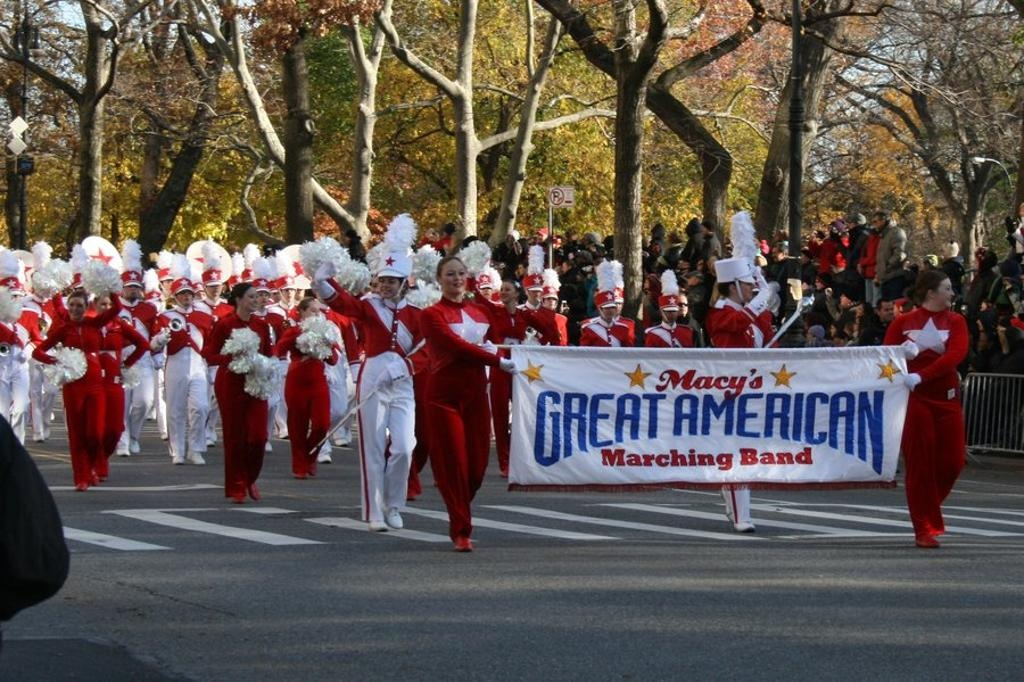human_face: (440, 262, 466, 291), (934, 278, 954, 308), (376, 272, 400, 296), (238, 288, 258, 312), (734, 277, 752, 299), (68, 296, 84, 318), (302, 305, 320, 323), (500, 282, 514, 302), (98, 298, 114, 314), (206, 280, 220, 296), (176, 289, 190, 305), (880, 302, 892, 320), (280, 285, 294, 299), (124, 282, 138, 296), (601, 304, 615, 318), (676, 298, 688, 314), (162, 276, 174, 292), (256, 288, 268, 302), (664, 308, 676, 320), (194, 290, 206, 302), (758, 240, 768, 254), (294, 285, 304, 299), (772, 246, 782, 260), (530, 287, 540, 299), (270, 288, 280, 300), (873, 217, 883, 227), (545, 296, 555, 306), (482, 286, 492, 296), (922, 258, 930, 270), (548, 237, 556, 248), (838, 294, 848, 302), (688, 275, 696, 285), (561, 263, 569, 273), (537, 232, 545, 242), (584, 236, 592, 246), (828, 324, 836, 334), (806, 329, 814, 339), (846, 220, 854, 228), (768, 325, 776, 333), (856, 304, 862, 314), (815, 278, 821, 288), (643, 279, 649, 289), (576, 270, 582, 280), (798, 252, 804, 262), (439, 230, 447, 237), (698, 261, 704, 269), (682, 262, 690, 268), (518, 264, 524, 272), (508, 234, 514, 242), (811, 229, 817, 237), (654, 244, 658, 250)
